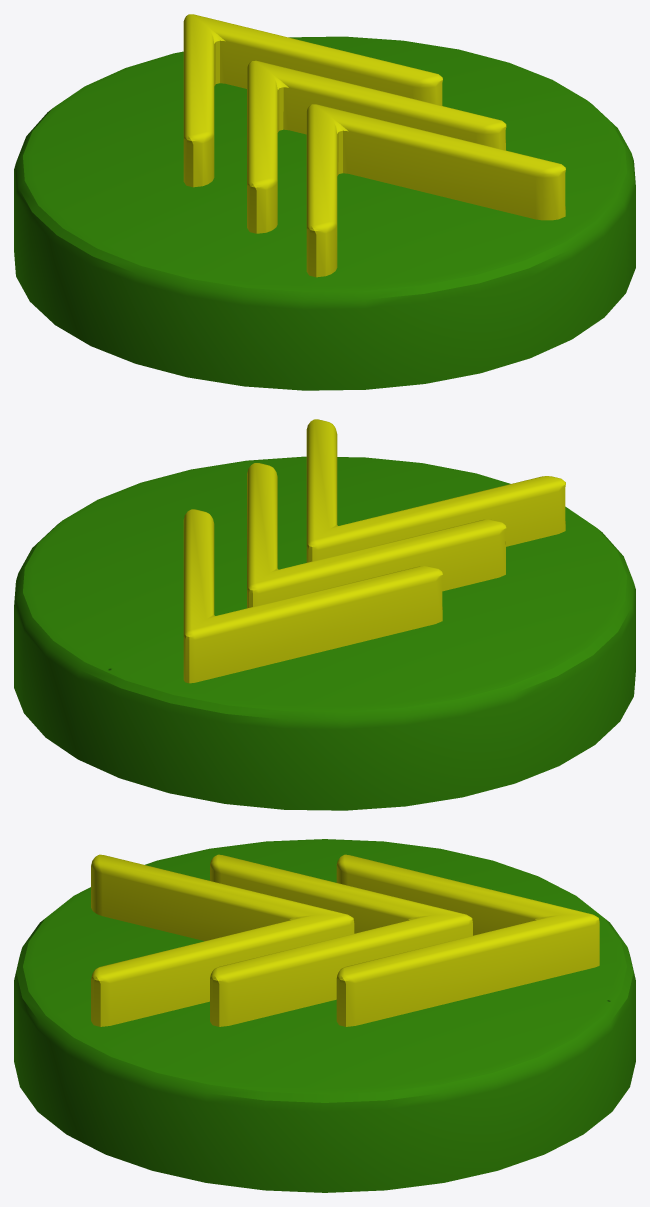
The model's file is speed_upgrade.glb.
3 views of the same model, one above another, from view 1: azimuth 30°, elevation 25°; view 2: azimuth 150°, elevation 25°; view 3: azimuth 270°, elevation 25° (orthographic).
Parts seen in each view (by area): view 1: Circle; view 2: Circle; view 3: Circle.
Part boxes in pixels (x1,y1,x2,y2): Circle: [14, 14, 635, 390]; Circle: [14, 419, 635, 810]; Circle: [14, 839, 635, 1192].
Bounding box in the file's own units: 0.4906 × 0.1276 × 0.4906.
1 material, 1 textured.
